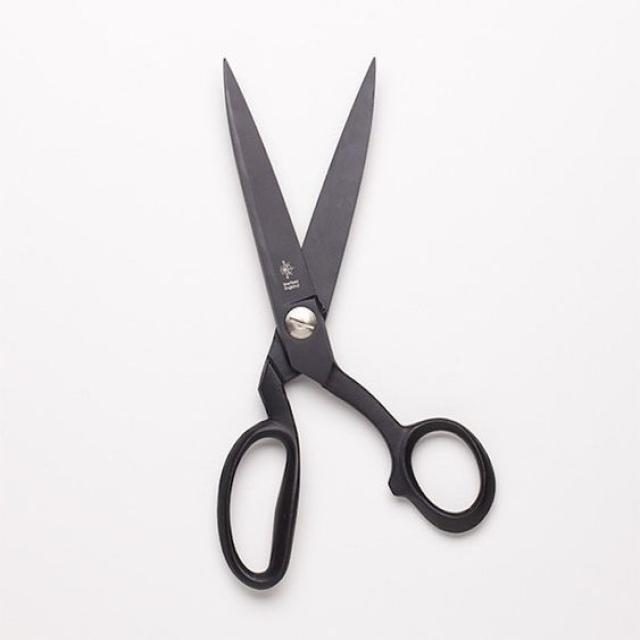scissor: (212, 51, 498, 596)
